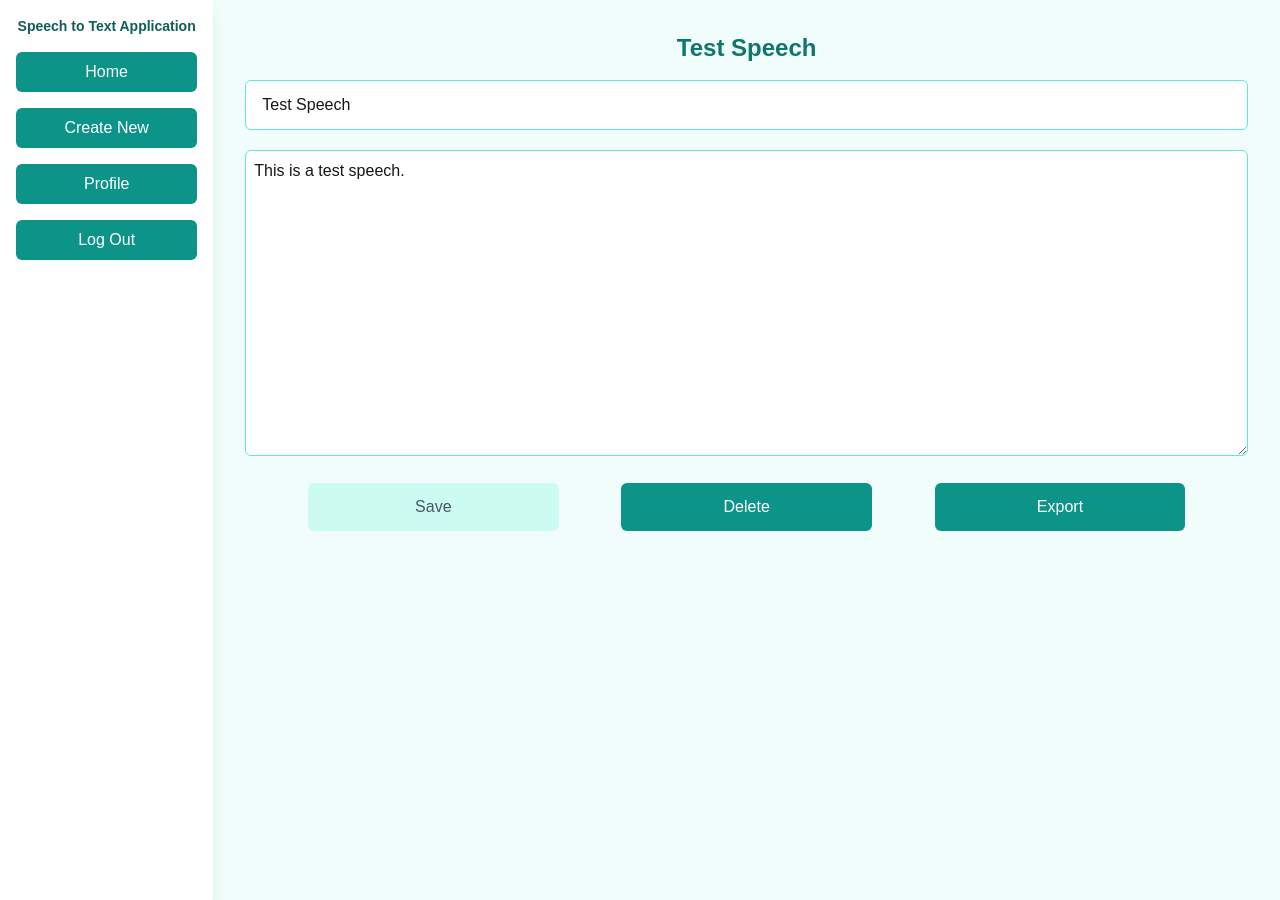
Test: Speech Component › exports the speech as a .txt file
The width and height of the screenshot is (1280, 900).
Check: the field showing "Test Speech" is shown, box [245,80,1248,130]
Step 1. Click the button "Export" → (1060, 507), box [935,483,1185,531]
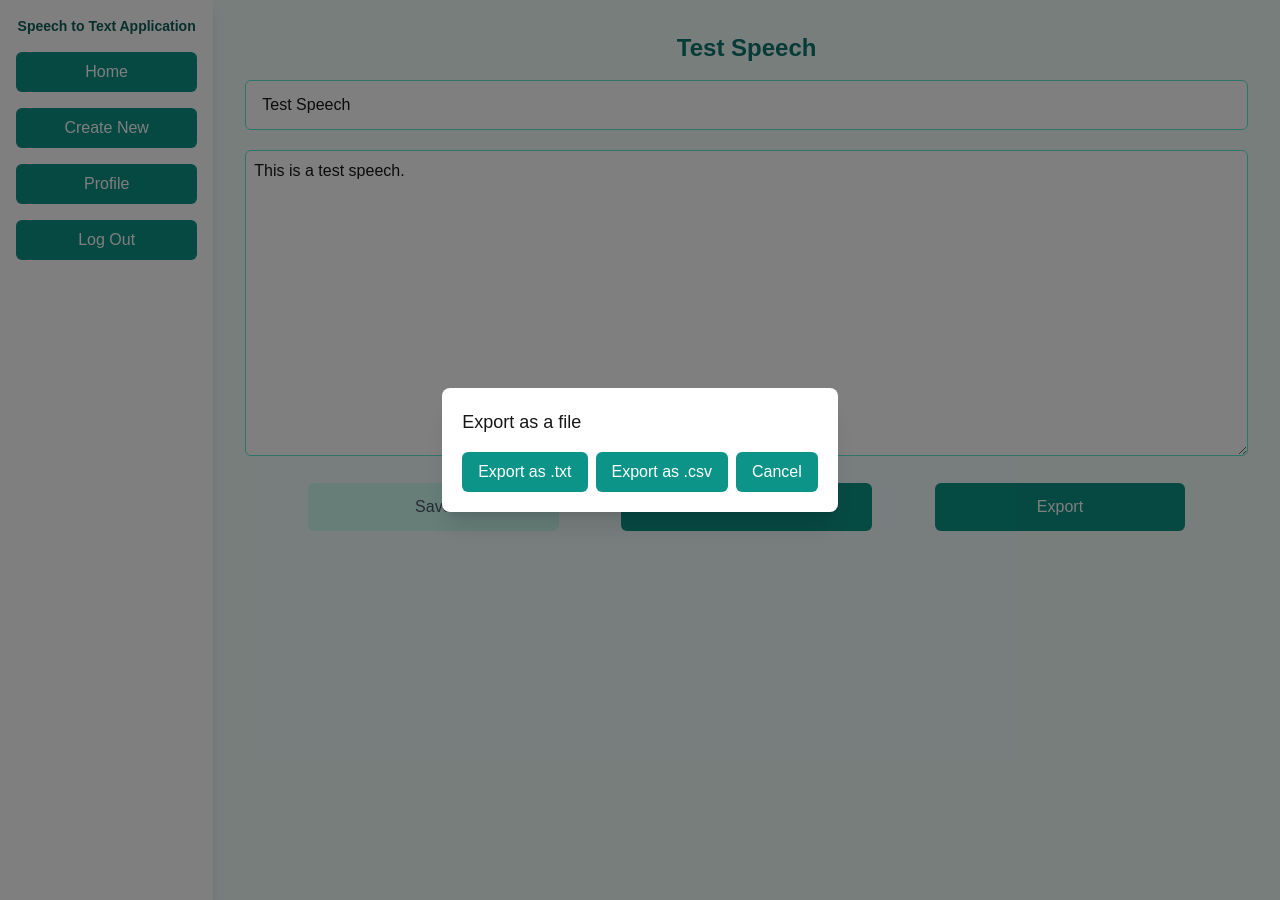
Step 2. Click the button "Export as .txt" → (525, 472), box [462,452,588,492]
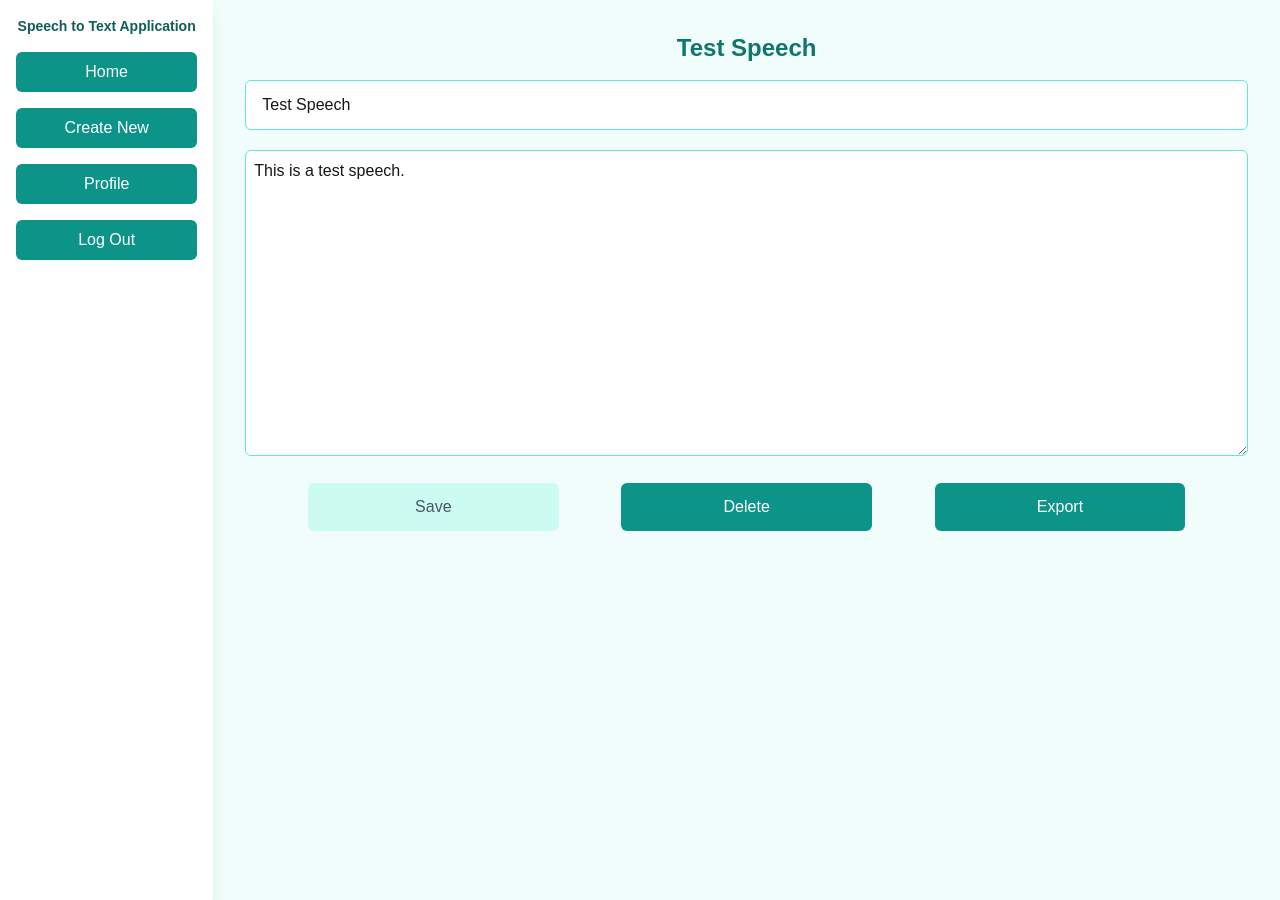
Check: the button "Export as .txt" is gone
